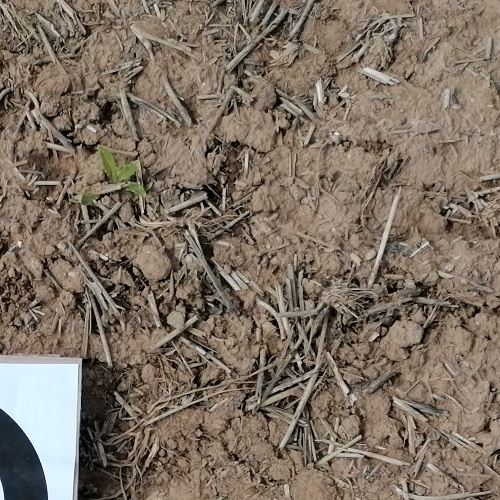beet: (81, 146, 146, 202)
